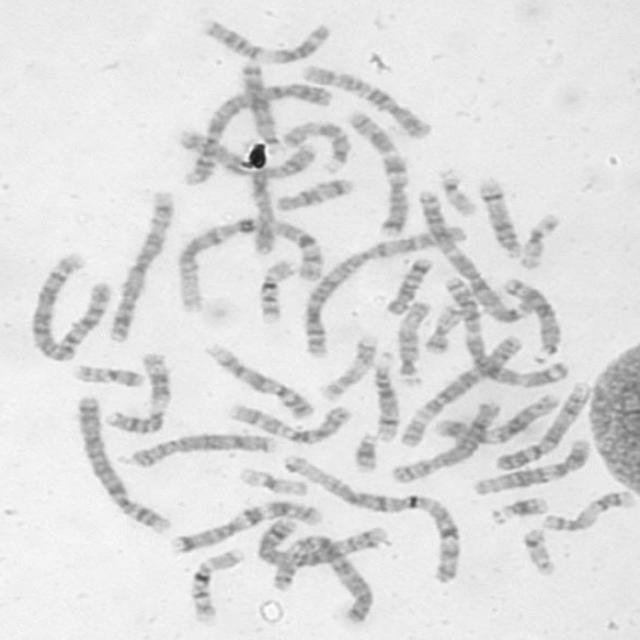A1: (276, 450, 465, 587), (171, 211, 328, 316)
A2: (298, 216, 474, 357), (24, 250, 114, 364)
A3: (411, 185, 533, 325), (440, 270, 570, 390)
B4: (177, 77, 336, 186), (71, 395, 174, 537)
B5: (103, 185, 175, 343), (250, 516, 391, 570)
C10: (298, 59, 436, 141), (221, 399, 351, 446)
C11: (194, 14, 334, 66), (101, 348, 175, 434)
C12: (468, 434, 594, 498), (431, 388, 562, 446)
C6: (396, 333, 525, 449), (280, 530, 378, 626)
C7: (343, 104, 413, 239), (168, 497, 326, 555)
C8: (387, 397, 502, 484), (121, 427, 277, 470)
C9: (200, 338, 316, 420), (493, 380, 594, 471)
D13: (500, 275, 566, 365), (234, 60, 285, 152)
D14: (474, 173, 524, 259), (369, 351, 404, 445)
D15: (277, 118, 352, 172), (392, 297, 433, 386)
E16: (187, 544, 246, 625), (254, 256, 298, 324)
E17: (537, 487, 637, 533), (318, 333, 380, 402)
E18: (381, 255, 435, 316), (272, 174, 355, 212)
F19: (515, 208, 564, 270), (236, 464, 311, 497)
F20: (68, 359, 147, 389), (420, 302, 464, 355)
G21: (486, 492, 552, 527), (350, 428, 380, 474)
G22: (432, 165, 480, 218), (517, 524, 559, 577)
